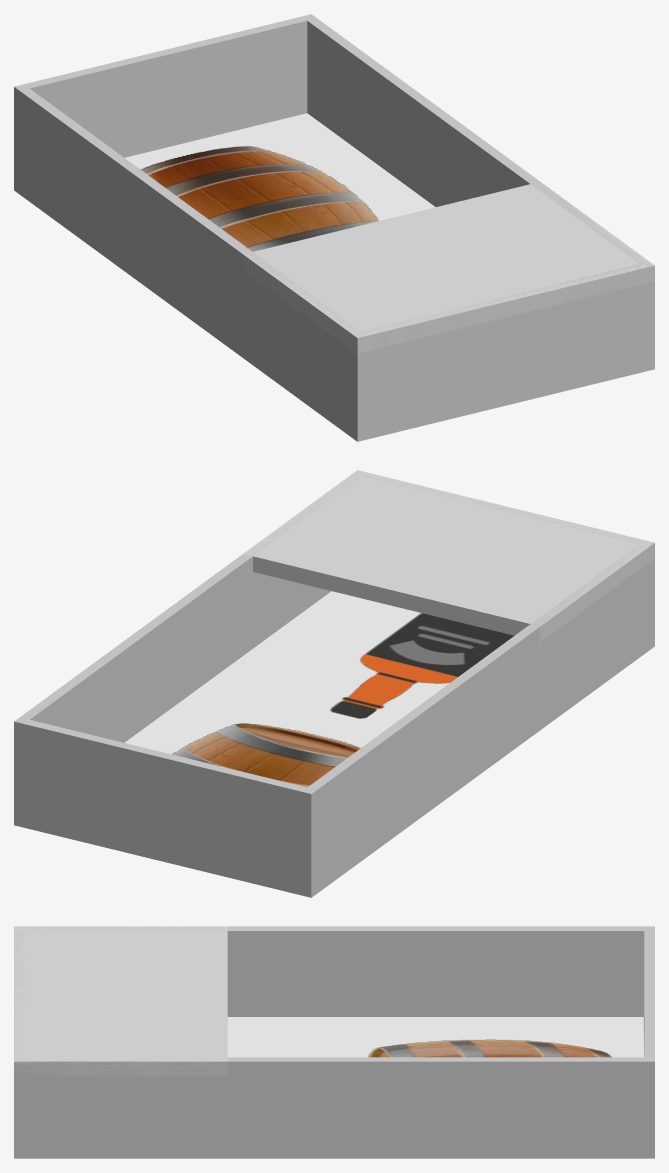
File: bin_bootlegger_lid_bottle.dae
The picture shows the model from 3 angles, top to bottom: view 1: azimuth 30°, elevation 25°; view 2: azimuth 150°, elevation 25°; view 3: azimuth 270°, elevation 25°; orthographic projection. The views are drawn at different scales.
Visible parts, largest first — view 1: Cube, Cube.001; view 2: Cube, Cube.001; view 3: Cube, Cube.001.
Part boxes in pixels (x1,y1,x2,y2): Cube: [14, 14, 654, 441]; Cube.001: [243, 182, 654, 353]; Cube: [14, 470, 654, 897]; Cube.001: [243, 470, 654, 641]; Cube: [14, 926, 654, 1158]; Cube.001: [14, 926, 227, 1076].
Size of the model in its own units: 0.3 by 0.6 by 0.1.
Materials: 2 (1 with a texture image).
